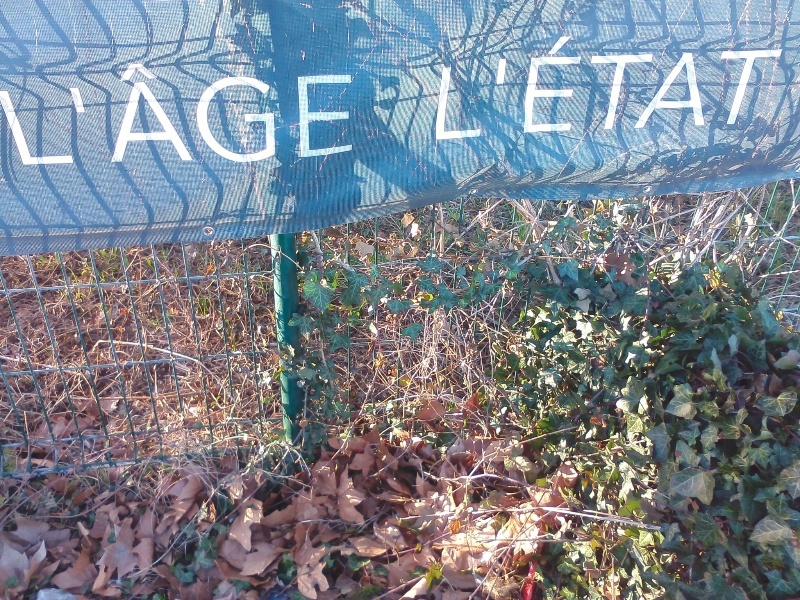text: (337, 52, 353, 168), (17, 52, 32, 168), (33, 52, 48, 168), (49, 52, 64, 168), (65, 52, 80, 168), (81, 52, 96, 168), (97, 52, 112, 168), (113, 52, 128, 168), (129, 52, 144, 168), (145, 52, 160, 168), (161, 52, 176, 168), (177, 52, 192, 168), (193, 52, 208, 168), (209, 52, 224, 168), (225, 52, 240, 168), (241, 52, 256, 168), (257, 52, 272, 168), (273, 52, 288, 168), (289, 52, 304, 168), (305, 52, 320, 168), (321, 52, 336, 168), (449, 28, 464, 140), (465, 28, 480, 140), (481, 28, 496, 140), (497, 28, 512, 140), (513, 28, 528, 140), (529, 28, 544, 140), (545, 28, 560, 140), (561, 28, 576, 140), (577, 28, 592, 140), (593, 28, 608, 140), (609, 28, 624, 140), (625, 28, 640, 140), (641, 28, 656, 140), (657, 28, 672, 140), (673, 28, 688, 140), (689, 28, 704, 140), (705, 28, 720, 140), (721, 28, 736, 140), (737, 28, 752, 140), (753, 28, 768, 140), (769, 28, 784, 140), (3, 52, 16, 168), (785, 28, 795, 140), (443, 28, 448, 140)
